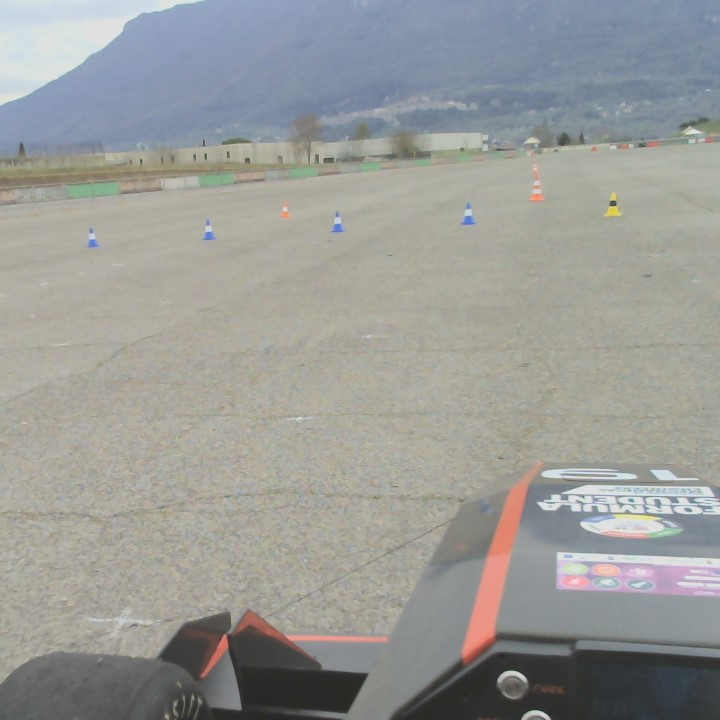cone: (461, 201, 475, 225), (332, 211, 346, 233), (204, 220, 217, 241), (86, 228, 99, 247)
